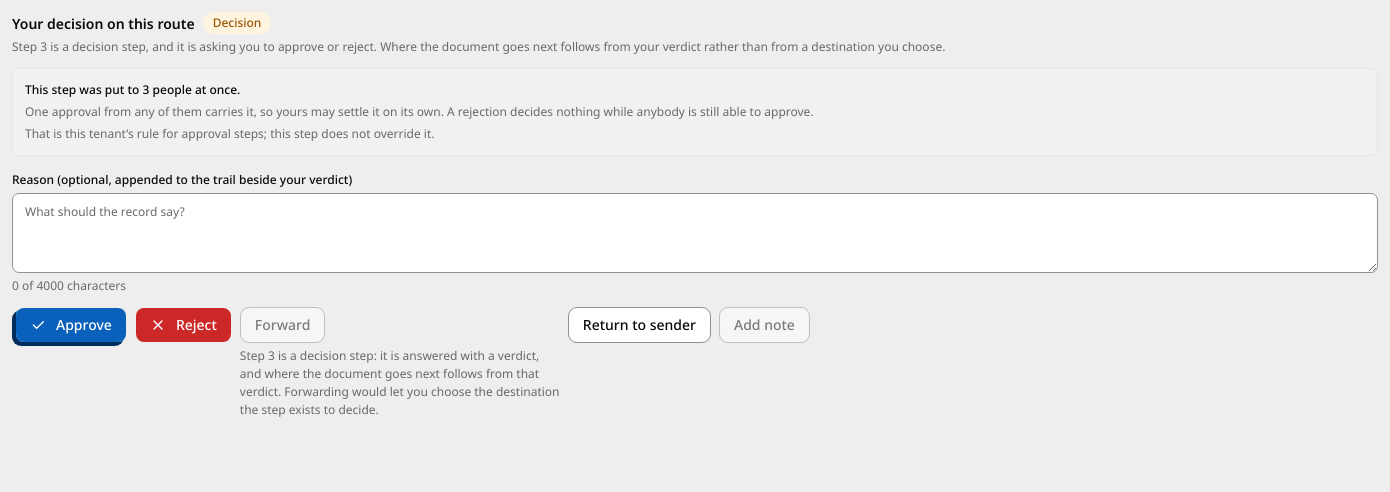
Test case: rejecting › does not report a rejection the step has not reached
Click the button "Reject": (183, 325) [135, 307, 232, 343]
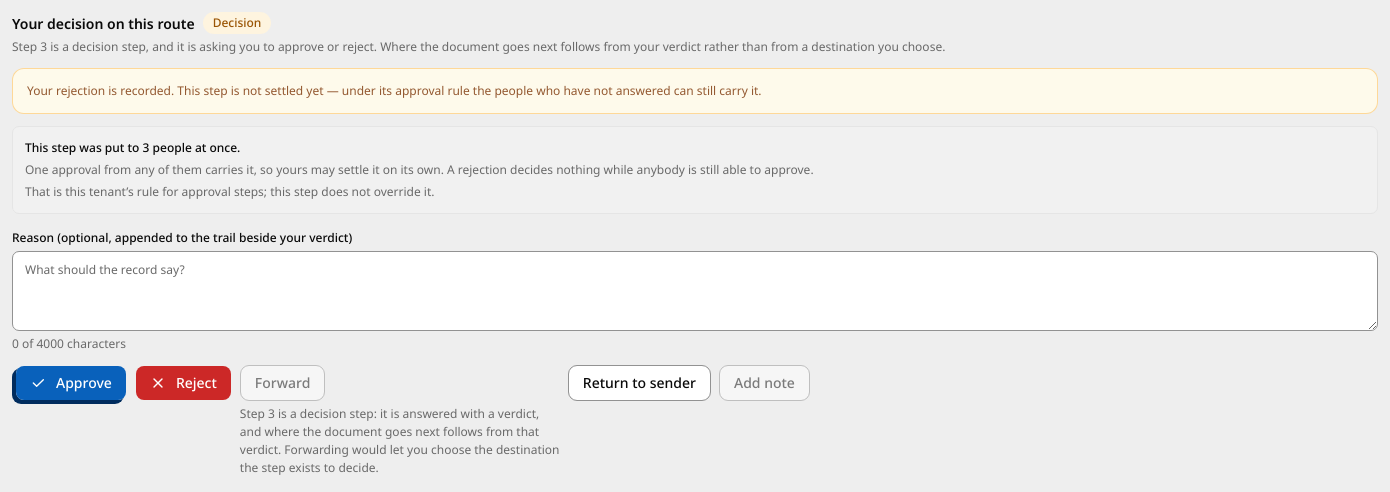
Result: the message is shown at [12, 68, 1378, 114]
Result: the message shows "not settled yet" at [27, 82, 762, 99]
Result: the message shows "Your rejection is recorded" at [27, 82, 762, 99]
